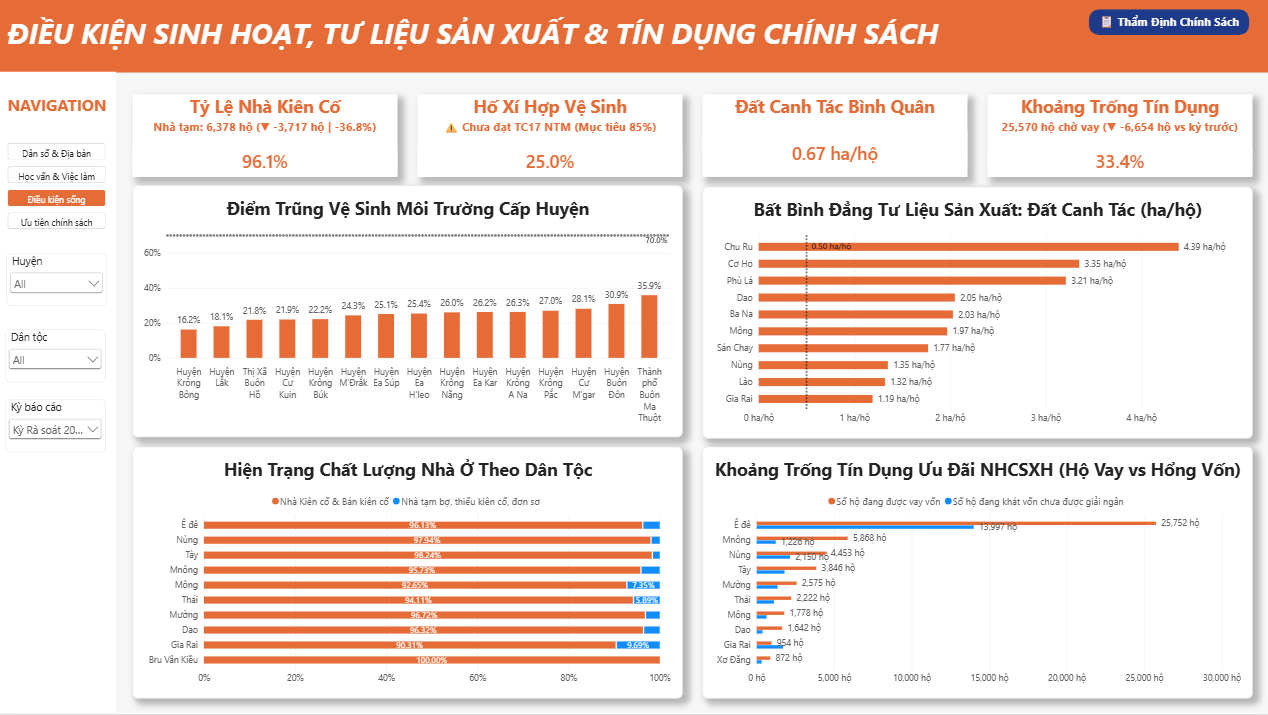

The page's visual inventory and layout, read from the dashboard file:
{"tool":"powerbi","page":{"name":"Điều kiện sống","canvas":[1920,1080],"ordinal":2},"visuals":[{"type":"shape","box":[0,0,1920,112.5],"z":0},{"type":"shape","box":[0,111.7,175,968.3],"z":1},{"type":"textbox","box":[11.7,145,163.3,40],"z":2},{"type":"pageNavigator","box":[11.7,219.4,148.3,131.7],"z":3},{"type":"slicer","fields":{"Values":["dim_dantoc.ten_dantoc"]},"box":[8.3,500,151.7,80],"z":4},{"type":"slicer","fields":{"Values":["dim_diaban.ten_huyen"]},"box":[8.6,385.6,151.7,80],"z":5},{"type":"textbox","box":[11.4,22.9,1908.6,90],"z":6},{"type":"cardVisual","title":"Tỷ Lệ Nhà Kiên Cố","fields":{"Data":["_Measures.Permanent House Rate %"]},"box":[200,145.7,400,125],"z":7},{"type":"cardVisual","title":"Hố Xí Hợp Vệ Sinh","fields":{"Data":["_Measures.Hygienic Latrine Rate %"]},"box":[630,145.7,400,125],"z":8},{"type":"cardVisual","title":"Đất Canh Tác Bình Quân","fields":{"Data":["_Measures.Average Farmland per Household (ha)"]},"box":[1060,145.7,400,125],"z":9},{"type":"cardVisual","title":"Khoảng Trống Tín Dụng","fields":{"Data":["_Measures.Credit Gap Rate %"]},"box":[1490,145.7,400,125],"z":10},{"type":"clusteredColumnChart","title":"Điểm Trũng Vệ Sinh Môi Trường Cấp Huyện","fields":{"Category":["fact_dantocthiet_yeu_huyen.ten_huyen"],"Y":["_Measures.Hygienic Latrine Rate %"]},"box":[200,283.9,830,380],"z":11},{"type":"clusteredBarChart","title":"Bất Bình Đẳng Tư Liệu Sản Xuất: Đất Canh Tác (ha/hộ)    ","fields":{"Category":["dim_dantoc.ten_dantoc"],"Y":["_Measures.Average Farmland per Household (ha)"]},"box":[1060,284.3,830,380],"z":12},{"type":"hundredPercentStackedBarChart","title":"Hiện Trạng Chất Lượng Nhà Ở Theo Dân Tộc","fields":{"Category":["dim_dantoc.ten_dantoc"],"Y":["_Measures.Permanent House Count","_Measures.Temporary House Count"]},"box":[200,677.1,830,380],"z":13},{"type":"clusteredBarChart","title":"Khoảng Trống Tín Dụng Ưu Đãi NHCSXH (Hộ Vay vs Hổng Vốn)","fields":{"Category":["dim_dantoc.ten_dantoc"],"Y":["_Measures.Borrowing Households","_Measures.Unmet Credit Households Gap"]},"box":[1060,677.1,830,380],"z":14},{"type":"slicer","fields":{"Values":["dim_ky_baocao.ten_ky"]},"box":[8.3,605,151.7,80],"z":15},{"type":"actionButton","box":[1642.6,17.3,242.4,39],"z":16}]}

Visuals, with their boxes on the page's 1920x1080 design canvas (x1, y1, x2, y2). These are canvas units, not pixel positions in the 1268x715 screenshot, which may show the page scaled, cropped or inside an application window:
shape: box(0, 0, 1920, 112)
shape: box(0, 112, 175, 1080)
textbox: box(12, 145, 175, 185)
pageNavigator: box(12, 219, 160, 351)
slicer - dim_dantoc.ten_dantoc: box(8, 500, 160, 580)
slicer - dim_diaban.ten_huyen: box(9, 386, 160, 466)
textbox: box(11, 23, 1920, 113)
"Tỷ Lệ Nhà Kiên Cố" cardVisual: box(200, 146, 600, 271)
"Hố Xí Hợp Vệ Sinh" cardVisual: box(630, 146, 1030, 271)
"Đất Canh Tác Bình Quân" cardVisual: box(1060, 146, 1460, 271)
"Khoảng Trống Tín Dụng" cardVisual: box(1490, 146, 1890, 271)
"Điểm Trũng Vệ Sinh Môi Trường Cấp Huyện" clusteredColumnChart: box(200, 284, 1030, 664)
"Bất Bình Đẳng Tư Liệu Sản Xuất: Đất Canh Tác (ha/hộ)    " clusteredBarChart: box(1060, 284, 1890, 664)
"Hiện Trạng Chất Lượng Nhà Ở Theo Dân Tộc" hundredPercentStackedBarChart: box(200, 677, 1030, 1057)
"Khoảng Trống Tín Dụng Ưu Đãi NHCSXH (Hộ Vay vs Hổng Vốn)" clusteredBarChart: box(1060, 677, 1890, 1057)
slicer - dim_ky_baocao.ten_ky: box(8, 605, 160, 685)
actionButton: box(1643, 17, 1885, 56)
